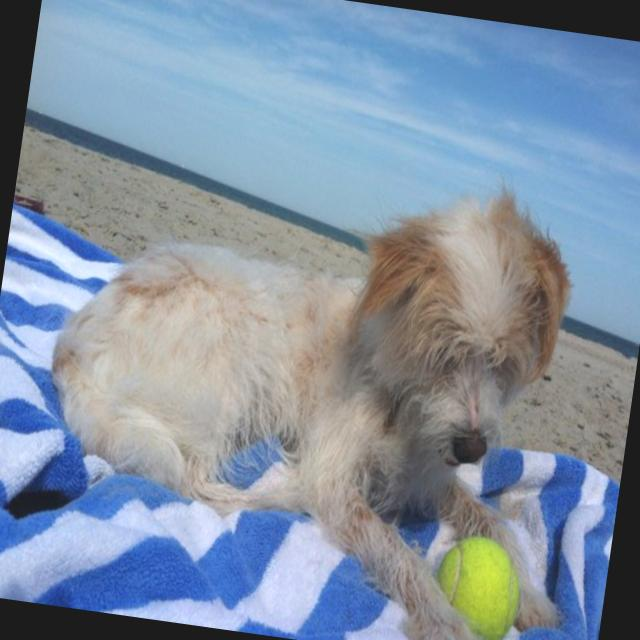Tennis Ball: (426, 531, 529, 640)
